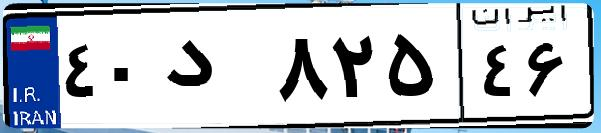0: (110, 28, 158, 98)
2: (330, 28, 385, 110)
4: (57, 26, 110, 100), (475, 38, 525, 113)
5: (385, 28, 445, 110)
6: (525, 38, 570, 115)
8: (270, 28, 330, 110)
د: (158, 20, 270, 120)
